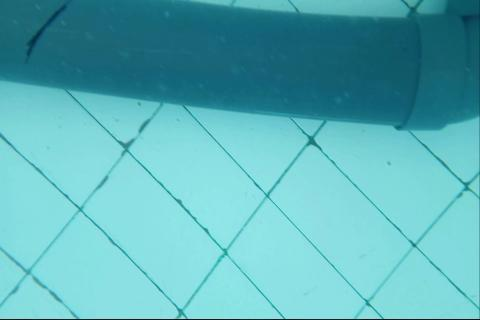keretakan: (24, 0, 69, 61)
